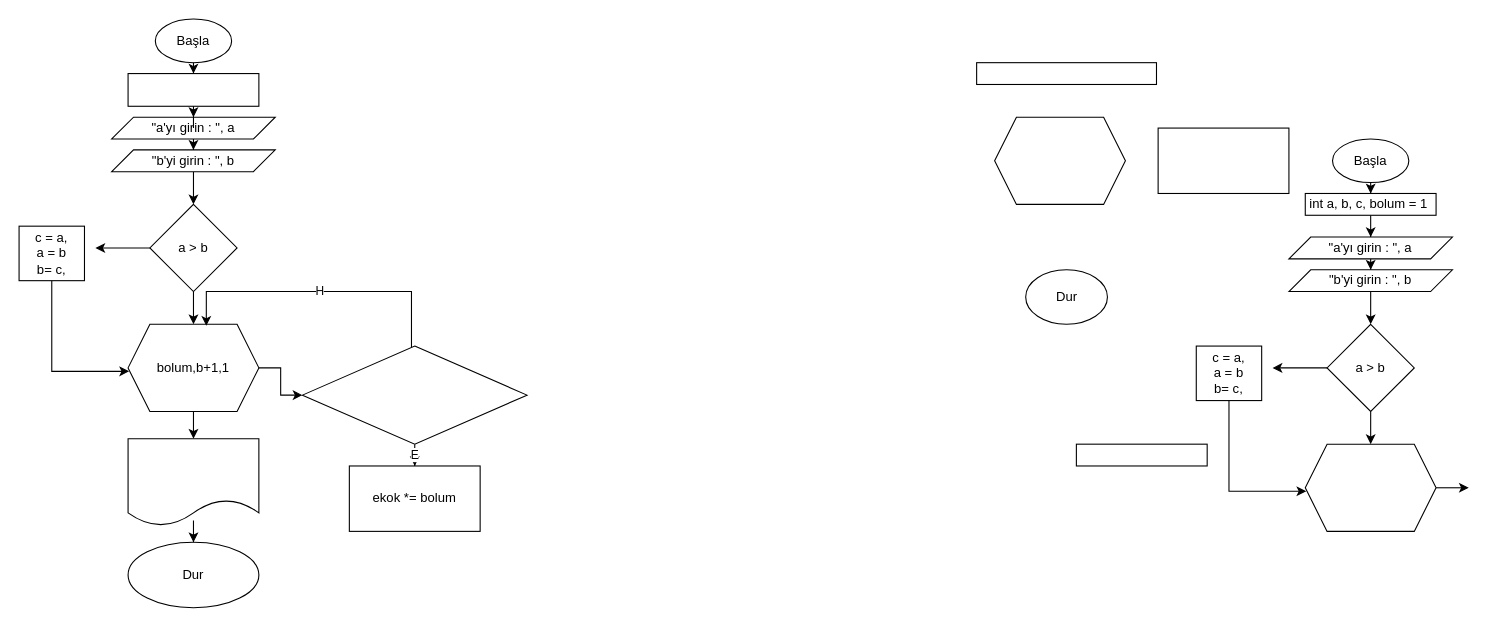
Image size: 1497x627. Some labels were removed from this diagram. Each missing label, with the box of its shape:
"EKOK", ekok: (127, 438, 259, 526)
a%bolum == 0 || b%bolum == 0: (301, 345, 527, 444)
bolum,a,1: (1304, 443, 1436, 531)
int a, b, c, bolum = 1 ekok = 1: (127, 72, 259, 106)
int a, b,c: (1075, 443, 1207, 466)
int sayi1 = 1, toplam = 0: (976, 62, 1156, 84)
sayi1,50,1: (994, 116, 1125, 204)
toplam += sayi1: (1157, 127, 1289, 193)
